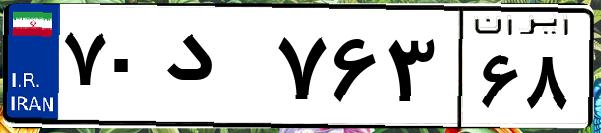0: (110, 28, 158, 98)
3: (385, 28, 445, 110)
6: (330, 28, 385, 110), (475, 38, 525, 113)
7: (270, 28, 330, 110), (57, 26, 110, 100)
8: (525, 38, 570, 115)
د: (158, 20, 270, 120)
